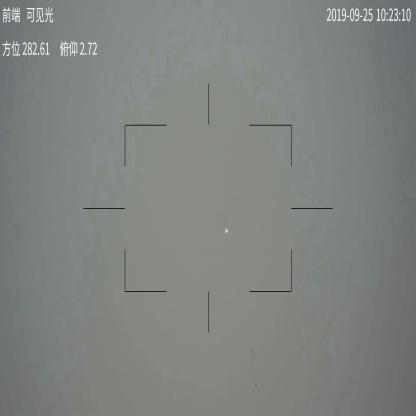uav: (223, 227, 228, 235)
